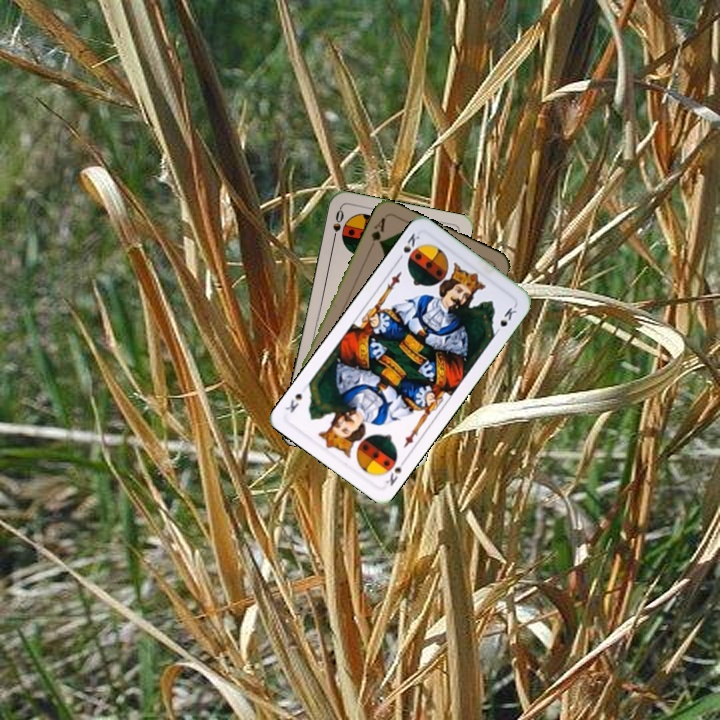GA: (365, 213, 388, 252)
SK: (393, 229, 423, 264), (381, 454, 410, 489)
SO: (329, 205, 346, 245)
